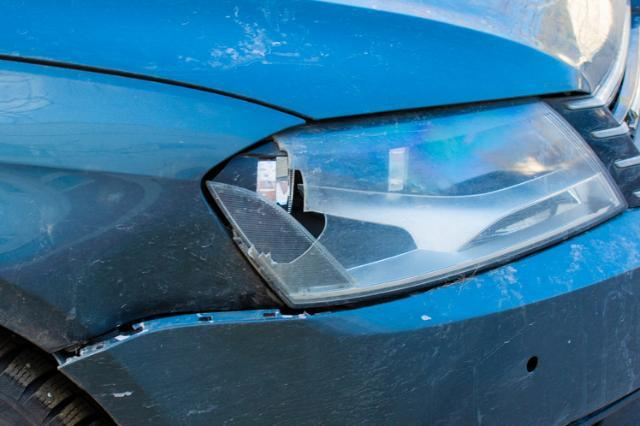Bonnet: (0, 0, 640, 121)
Bumper: (58, 208, 640, 426)
Fender: (0, 64, 308, 350)
Light: (202, 93, 640, 315)
